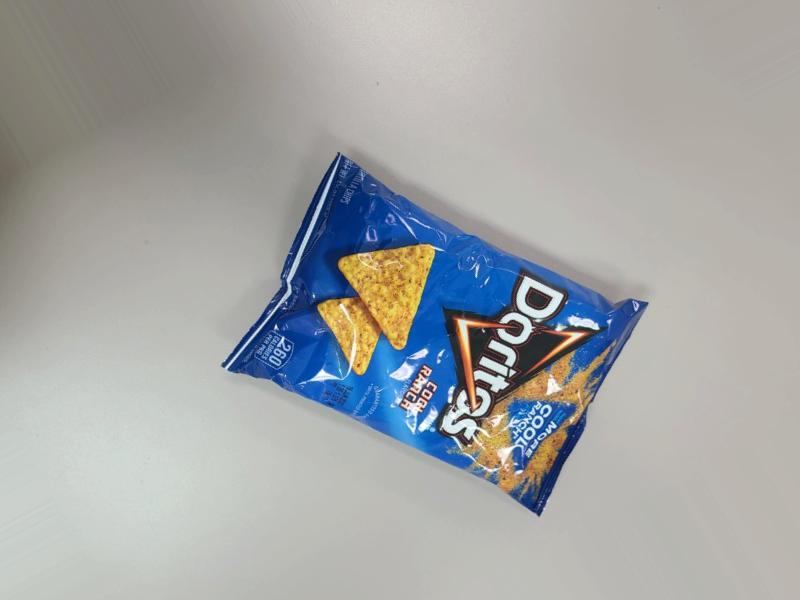doritos: (196, 152, 668, 522)
